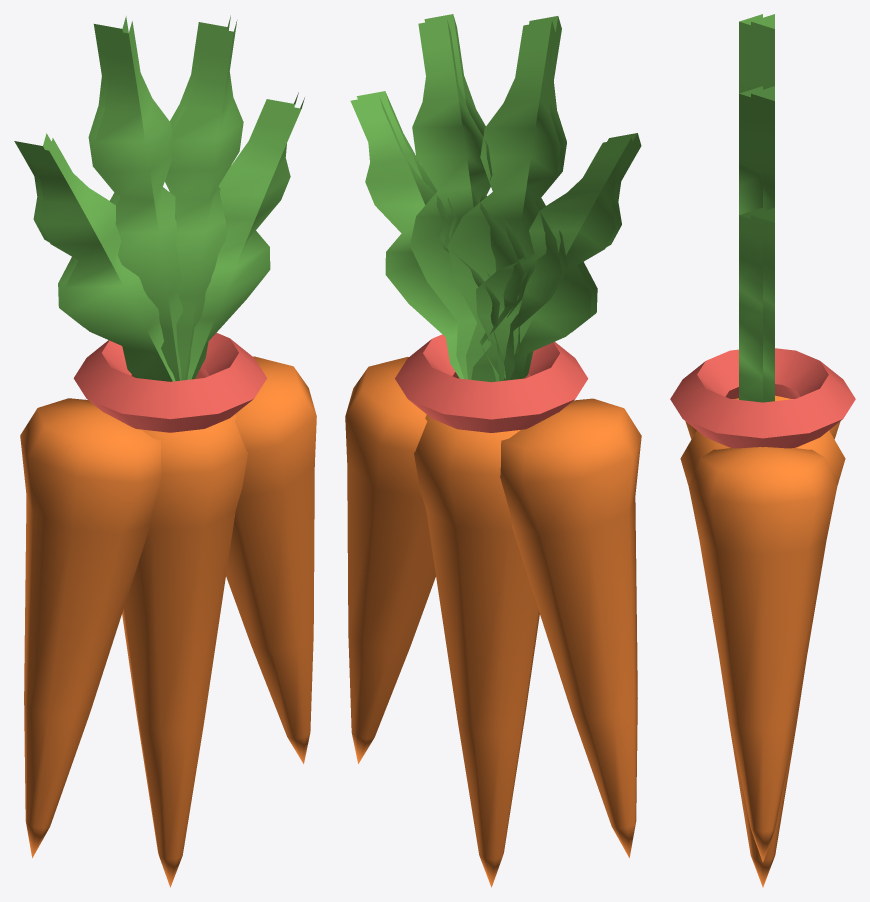
The model's file is item_roots.glb.
The picture shows the model from 3 angles, left to right: view 1: azimuth 30°, elevation 25°; view 2: azimuth 150°, elevation 25°; view 3: azimuth 270°, elevation 25°; orthographic projection. The views are drawn at different scales.
Visible parts, largest first — view 1: item_roots; view 2: item_roots; view 3: item_roots.
Part boxes in pixels (left/top/right/bottom): item_roots: left=14, top=15, right=316, bottom=887; item_roots: left=345, top=14, right=641, bottom=887; item_roots: left=670, top=14, right=855, bottom=887.
Size of the model in its own units: 0.1071 by 0.3097 by 0.062.
